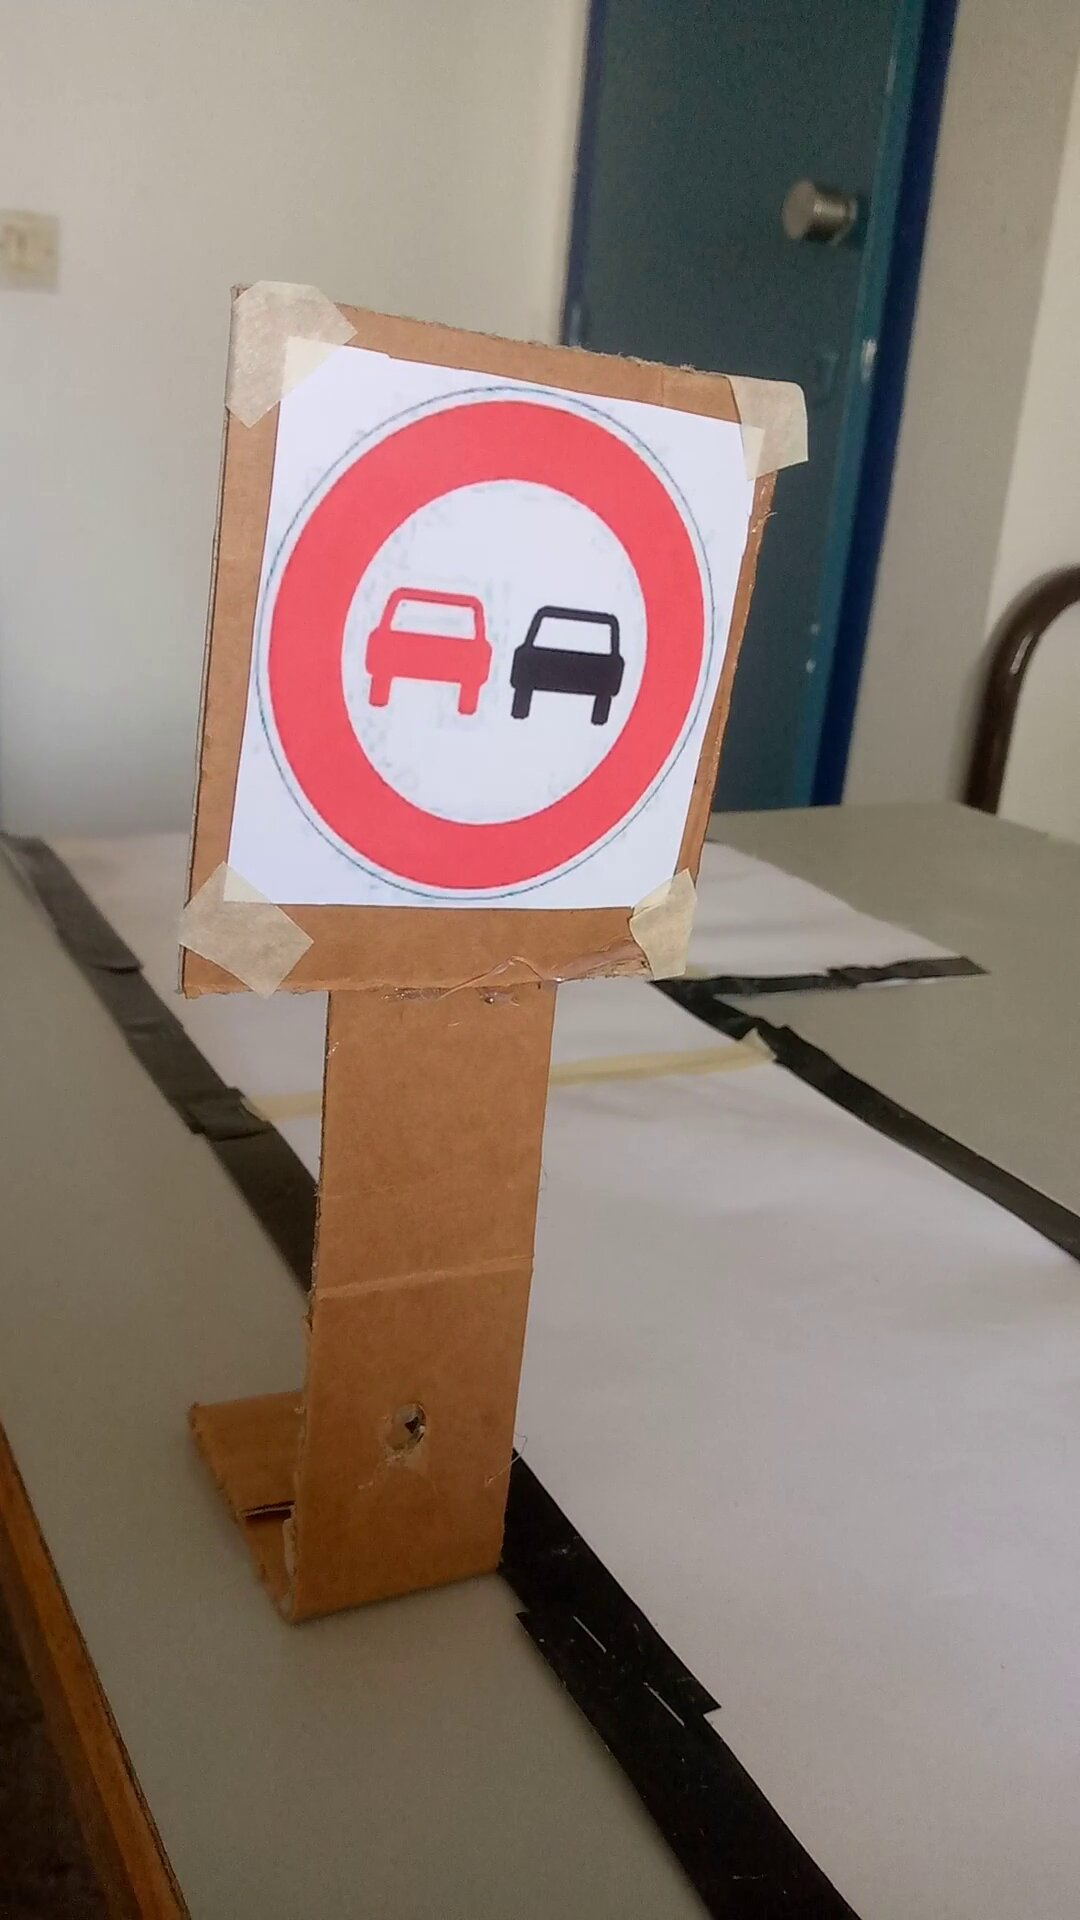panel100: (278, 320, 727, 949)
